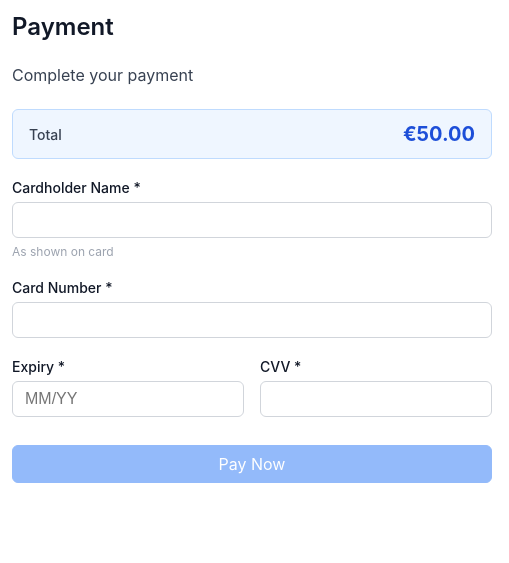
Test: PaymentStepComponent › Declined payment › should show paymentError message when card is declined
The width and height of the screenshot is (509, 563).
Step 1. Type "John Doe" into the field with id "cardholderName" → (252, 220), box [12,202,492,238]
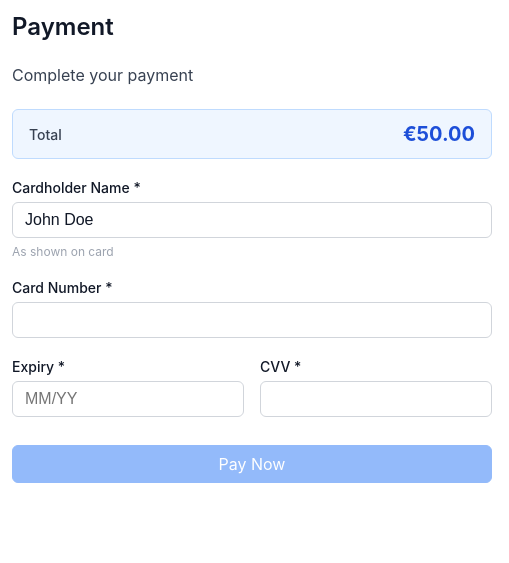
Step 2. Type "4111111111111111" into the field with id "cardNumber" → (252, 320), box [12,302,492,338]
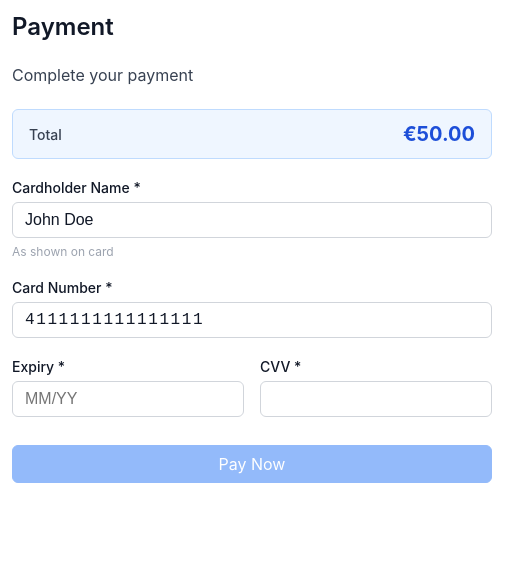
Step 3. Type "12/27" into the field with id "expiryDate" → (128, 399), box [12,381,244,417]
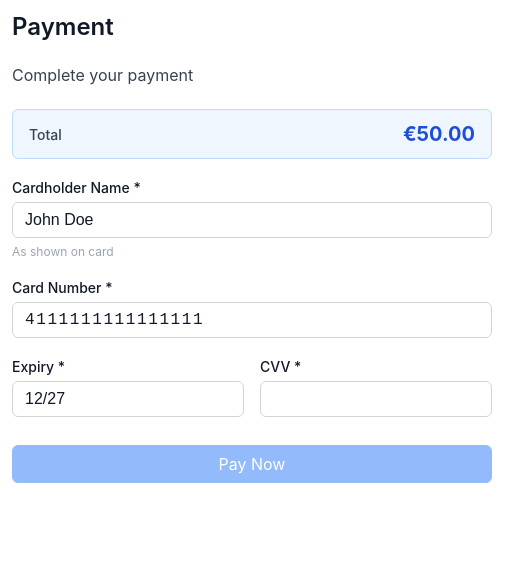
Step 4. Type "123" into the field with id "cvv" → (376, 399), box [260,381,492,417]
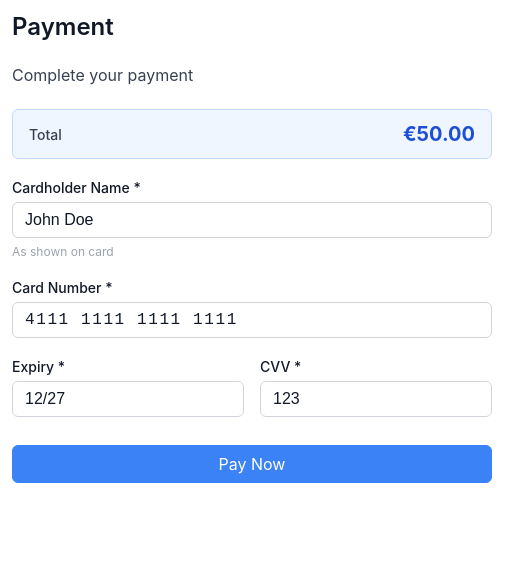
Step 5. Submit the form
Wait 100 ms
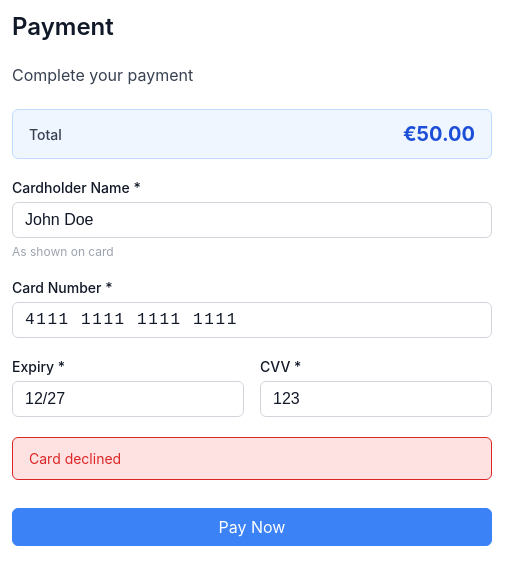
Now the message "Card declined" is shown, box [12,437,492,480]
